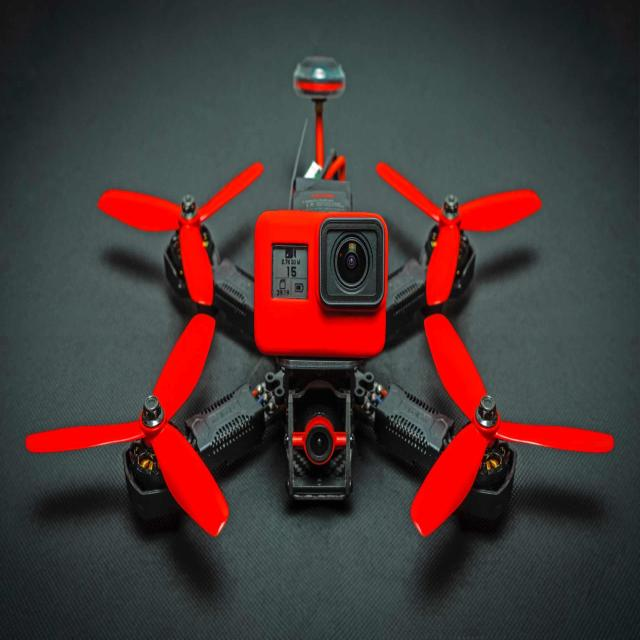drone: (89, 98, 566, 561)
